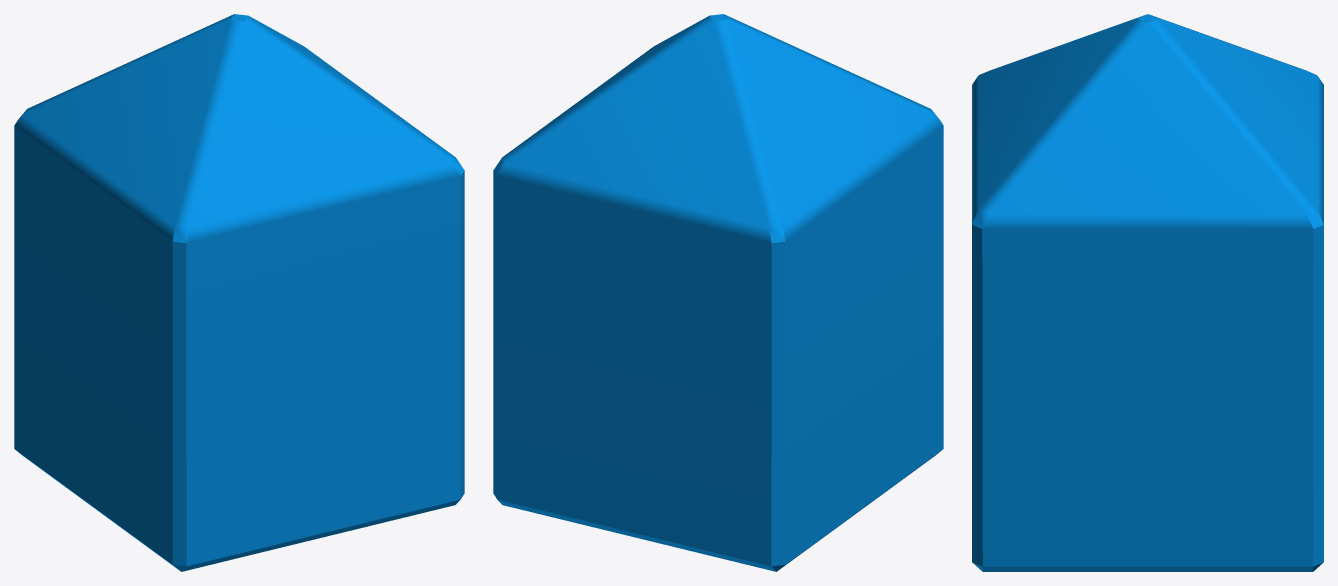
The model's file is Slide_Pyramid_05.fbx.
The picture shows the model from 3 angles, left to right: view 1: azimuth 30°, elevation 25°; view 2: azimuth 150°, elevation 25°; view 3: azimuth 270°, elevation 25°; orthographic projection. The views are drawn at different scales.
Visible parts, largest first — view 1: Slide_Pyramid_05; view 2: Slide_Pyramid_05; view 3: Slide_Pyramid_05.
Part boxes in pixels (x1,y1,x2,y2): Slide_Pyramid_05: (14, 14, 464, 571); Slide_Pyramid_05: (493, 14, 943, 571); Slide_Pyramid_05: (972, 14, 1323, 571).
Bounding box in the file's own units: 16.85 × 25.53 × 16.83.
